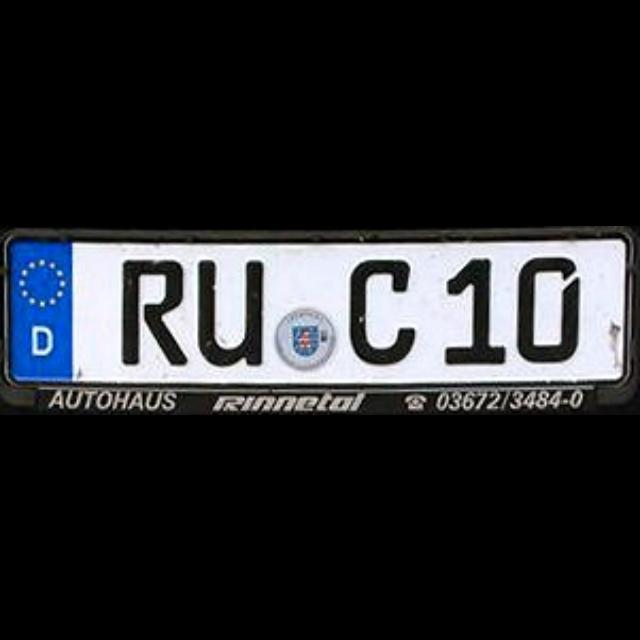license-plates: (0, 227, 640, 416)
